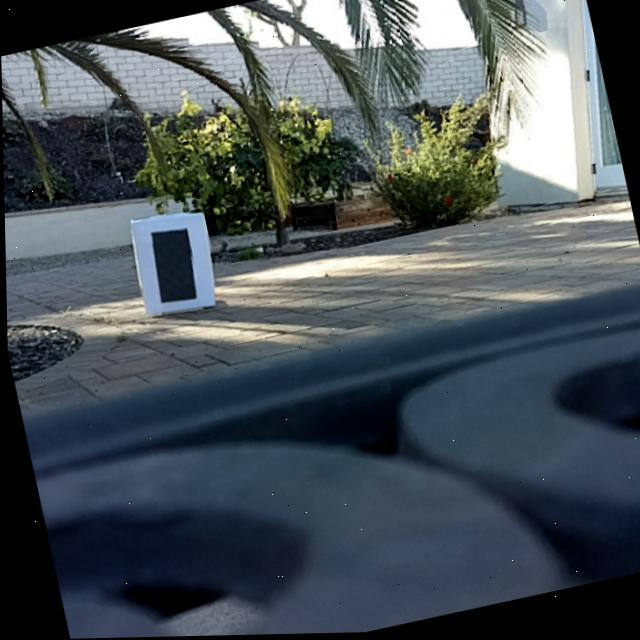led: (146, 226, 201, 308)
